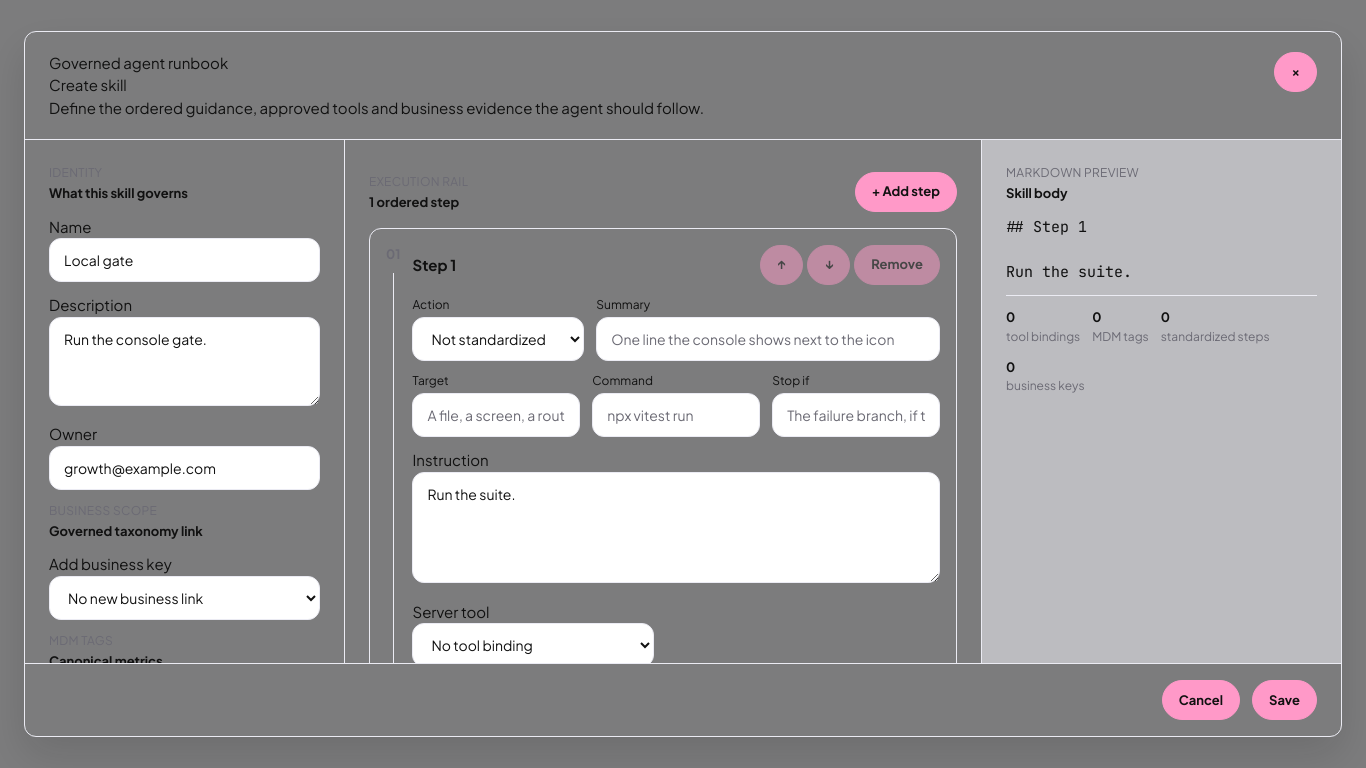
Test: an incomplete step is refused at the keyboard, not by a 422
The image size is (1366, 768).
Select "run" in the dropdown named "Step 1 action" at (498, 339), box [412,317,584,361]
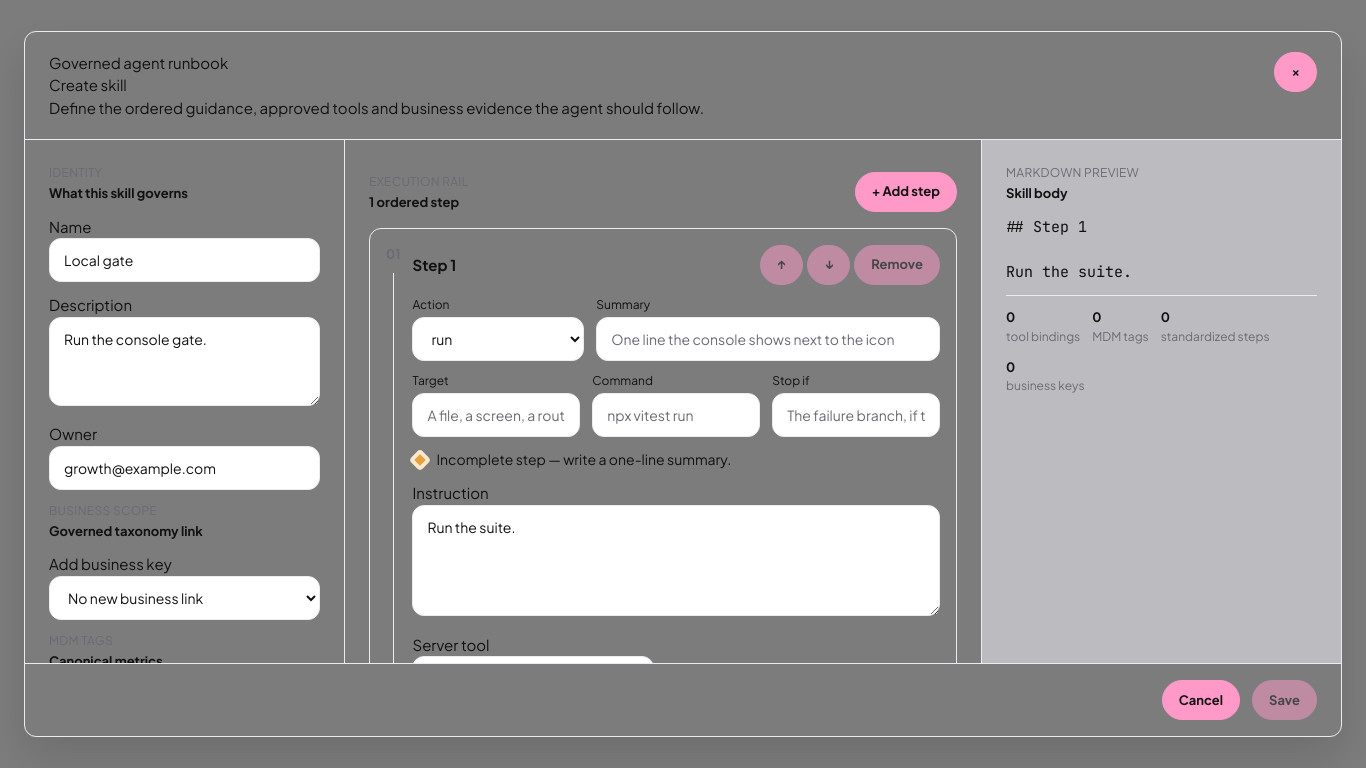
Now the element with test id "skill-step-refusal-1" shows "write a one-line summary", box [563,450,727,468]
Now the button "Save" is disabled, box [1252,680,1317,720]
Type "Run the console suite" into the field named "Step 1 summary" at (768, 339), box [596,317,940,361]
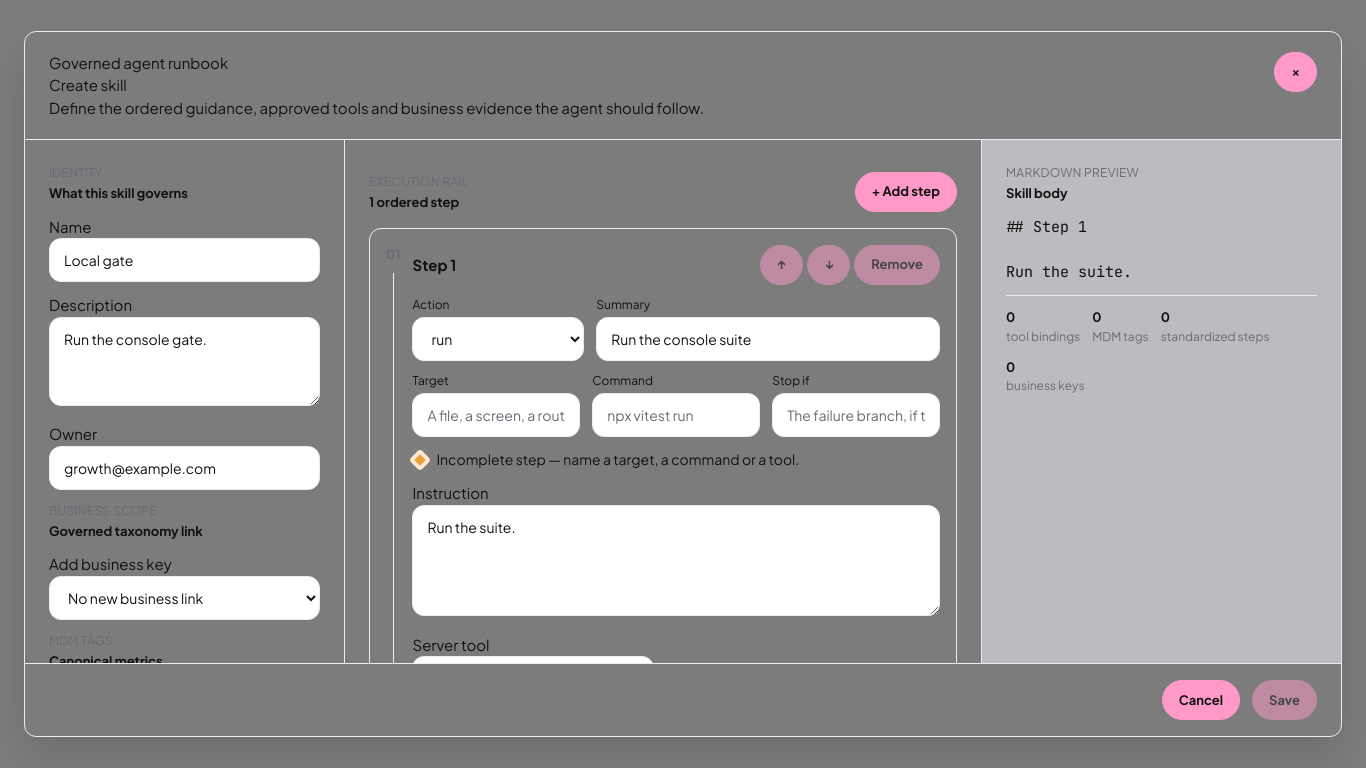
Now the button "Save" is disabled, box [1252,680,1317,720]
Now the element with test id "skill-step-refusal-1" shows "name a target, a command or a tool", box [563,450,795,468]
Type "ui/admin" into the field named "Step 1 target" at (496, 415), box [412,393,580,437]
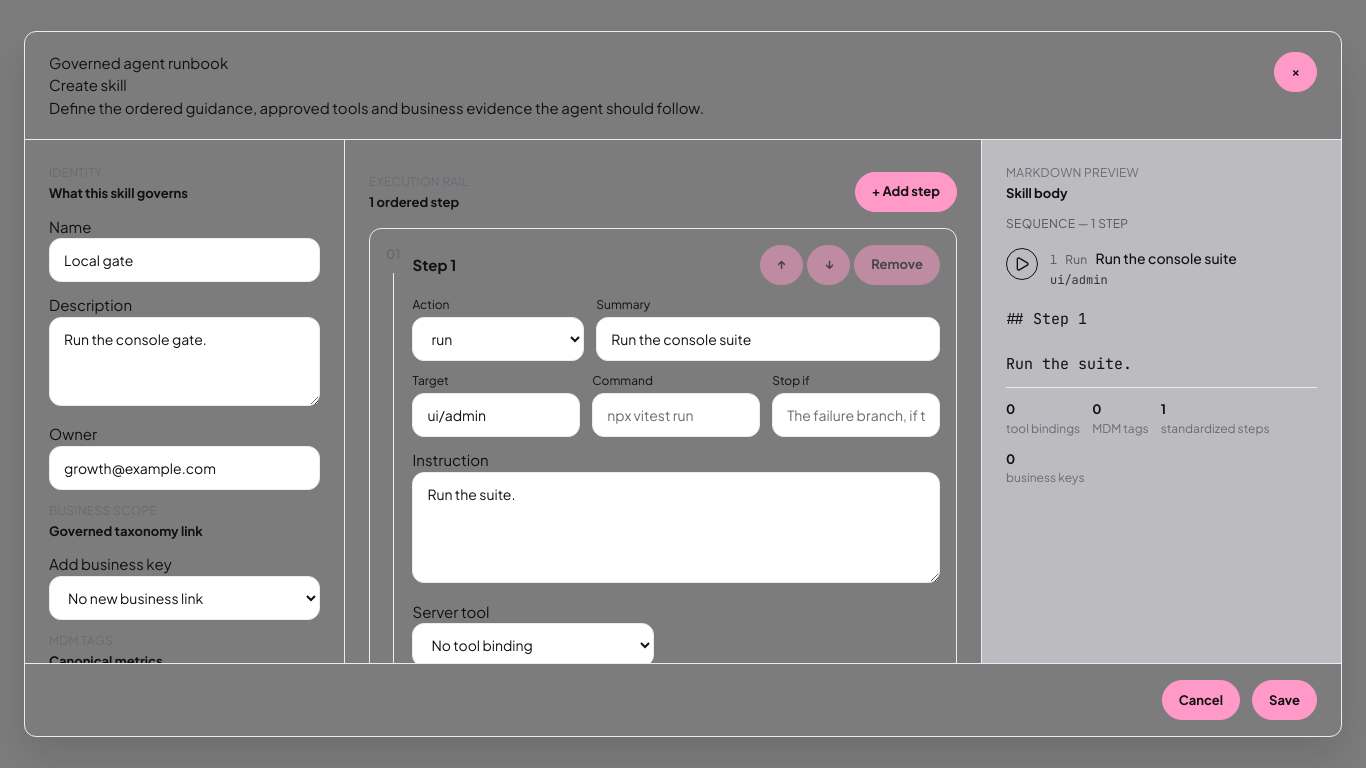
Now the element with test id "skill-step-refusal-1" is gone
Now the button "Save" is enabled, box [1252,680,1317,720]
